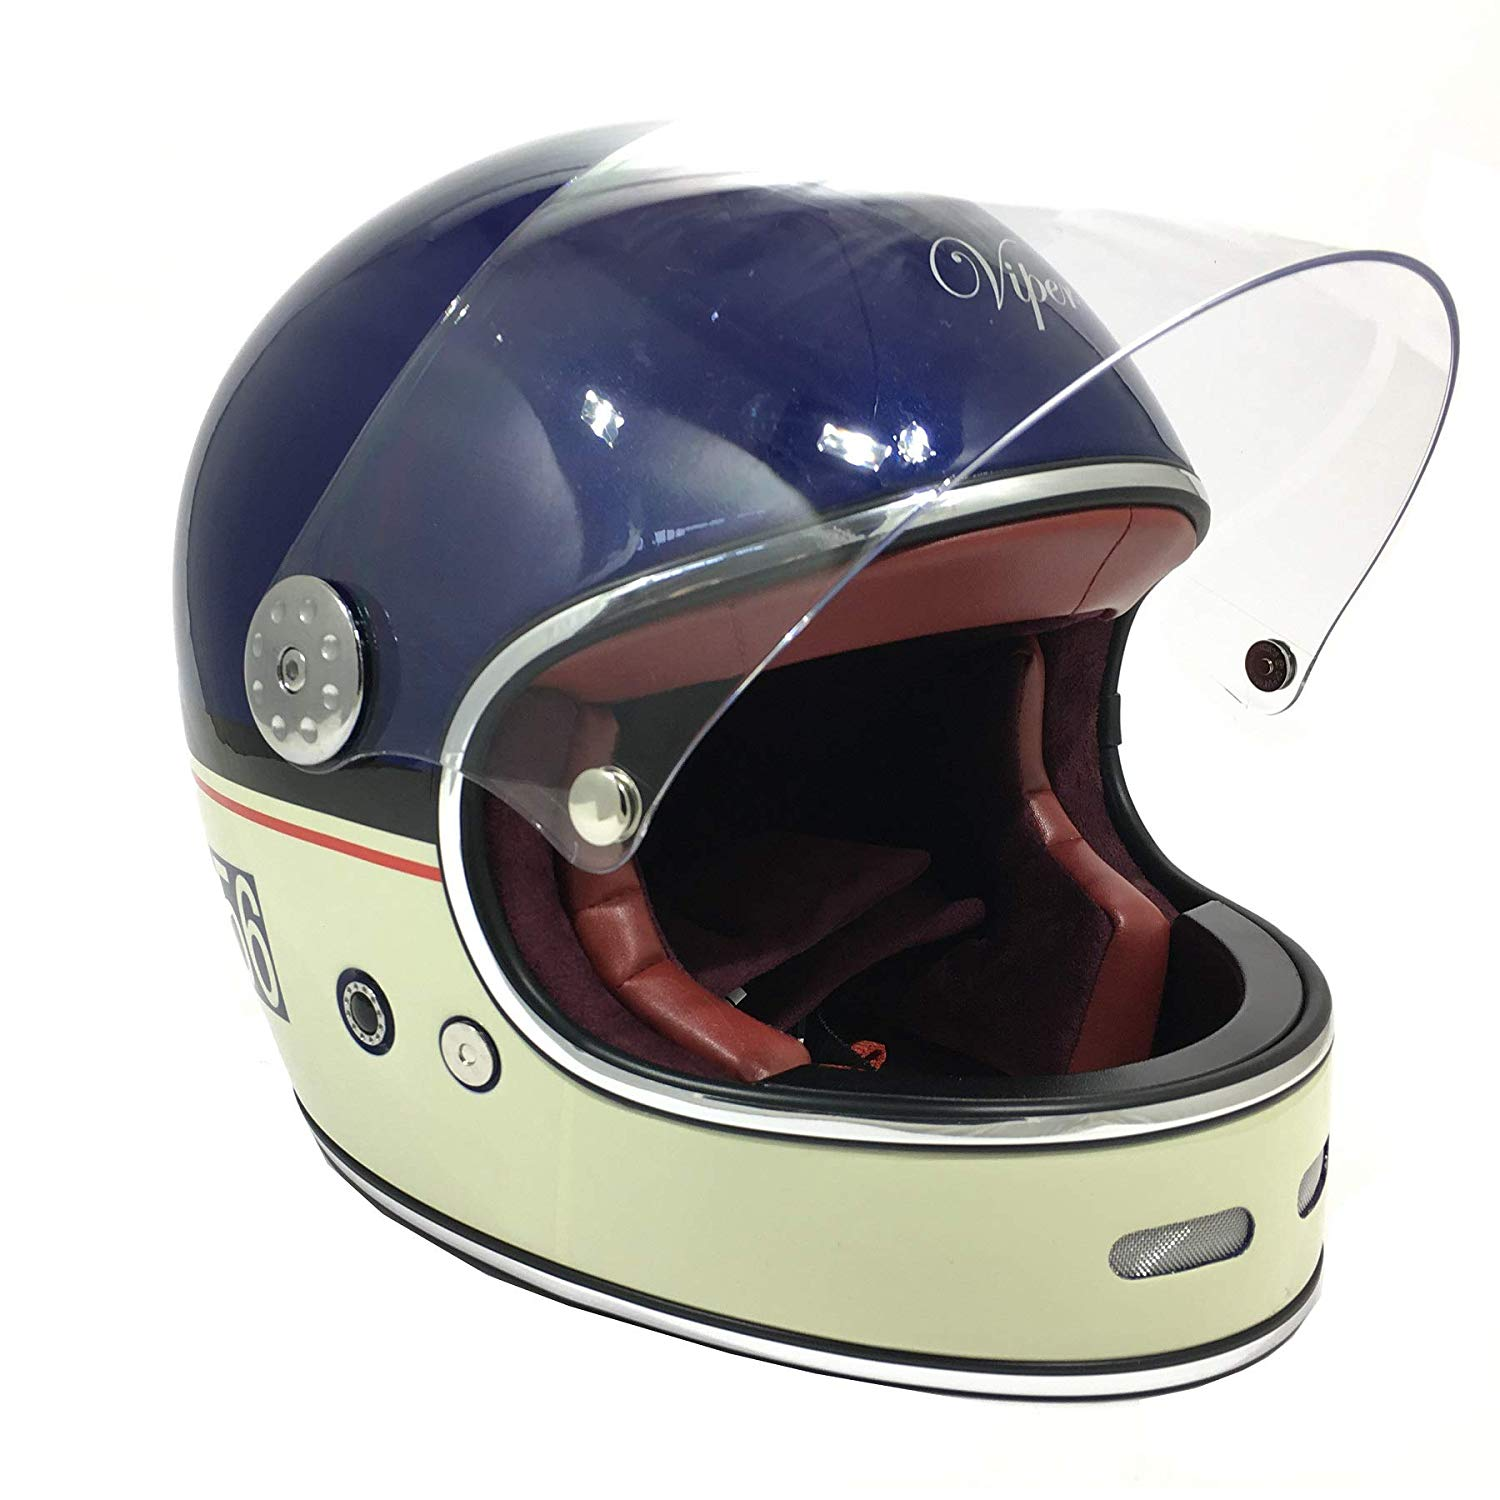with_helmet: (158, 98, 1468, 1413)
